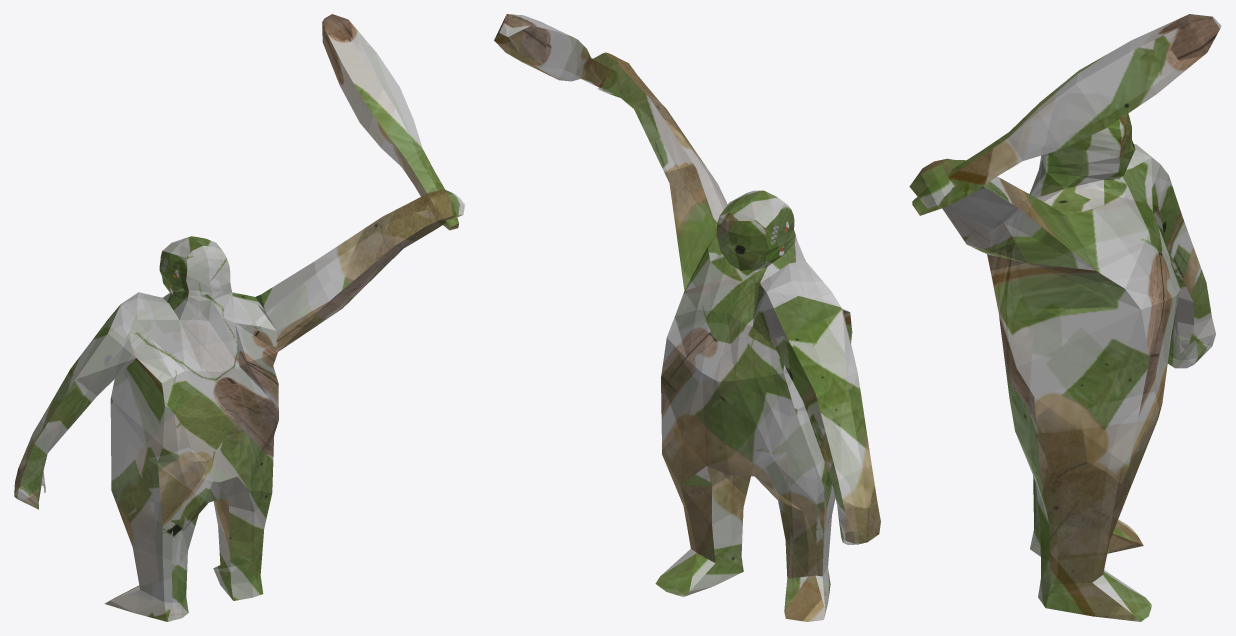
Rendered from Enemigo210.obj.
3 views of the same model, side by side, from view 1: azimuth 30°, elevation 25°; view 2: azimuth 150°, elevation 25°; view 3: azimuth 270°, elevation 25° (orthographic). The views are drawn at different scales.
Parts seen in each view (by area): view 1: Cube; view 2: Cube; view 3: Cube.
Boxes of the visible parts, x1=… form: Cube: x1=14, y1=14, x2=465, y2=621; Cube: x1=494, y1=14, x2=880, y2=621; Cube: x1=909, y1=14, x2=1221, y2=621.
Size of the model in its own units: 2.82 by 3.8 by 1.58.
Materials: 1 (1 with a texture image).
